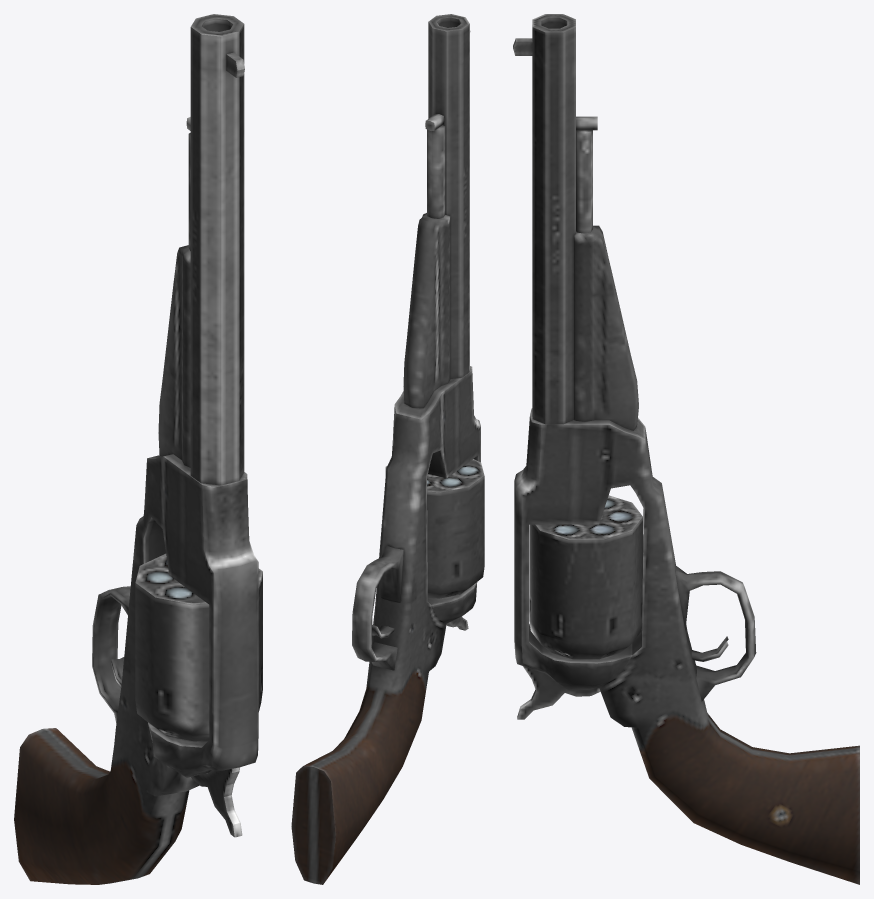
The model's file is RemingtonArmyPercussion.fbx.
The picture shows the model from 3 angles, left to right: view 1: azimuth 30°, elevation 25°; view 2: azimuth 150°, elevation 25°; view 3: azimuth 270°, elevation 25°; orthographic projection. The views are drawn at different scales.
Visible parts, largest first — view 1: RemingtonArmyPercuss; view 2: RemingtonArmyPercuss; view 3: RemingtonArmyPercuss.
Part boxes in pixels (bbox=[...]): RemingtonArmyPercuss: bbox=[14, 14, 262, 884]; RemingtonArmyPercuss: bbox=[291, 14, 484, 884]; RemingtonArmyPercuss: bbox=[513, 14, 859, 884].
Size of the model in its own units: 0.0265 by 0.2313 by 0.0848.
